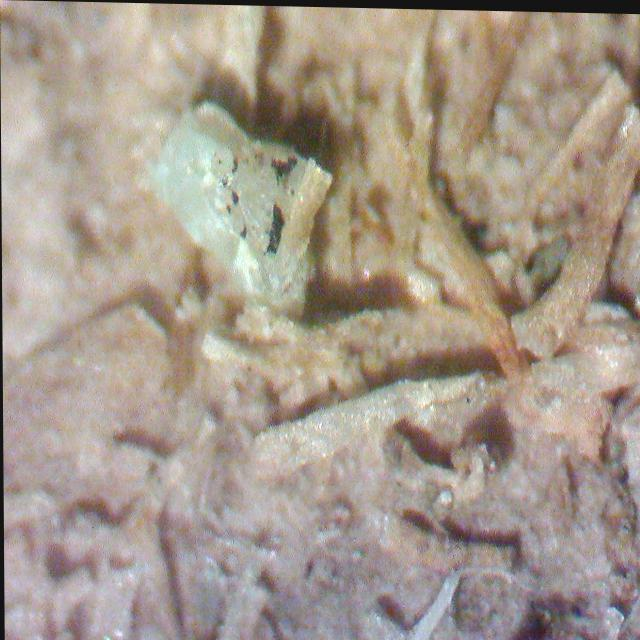microplastic: (144, 102, 334, 325)
